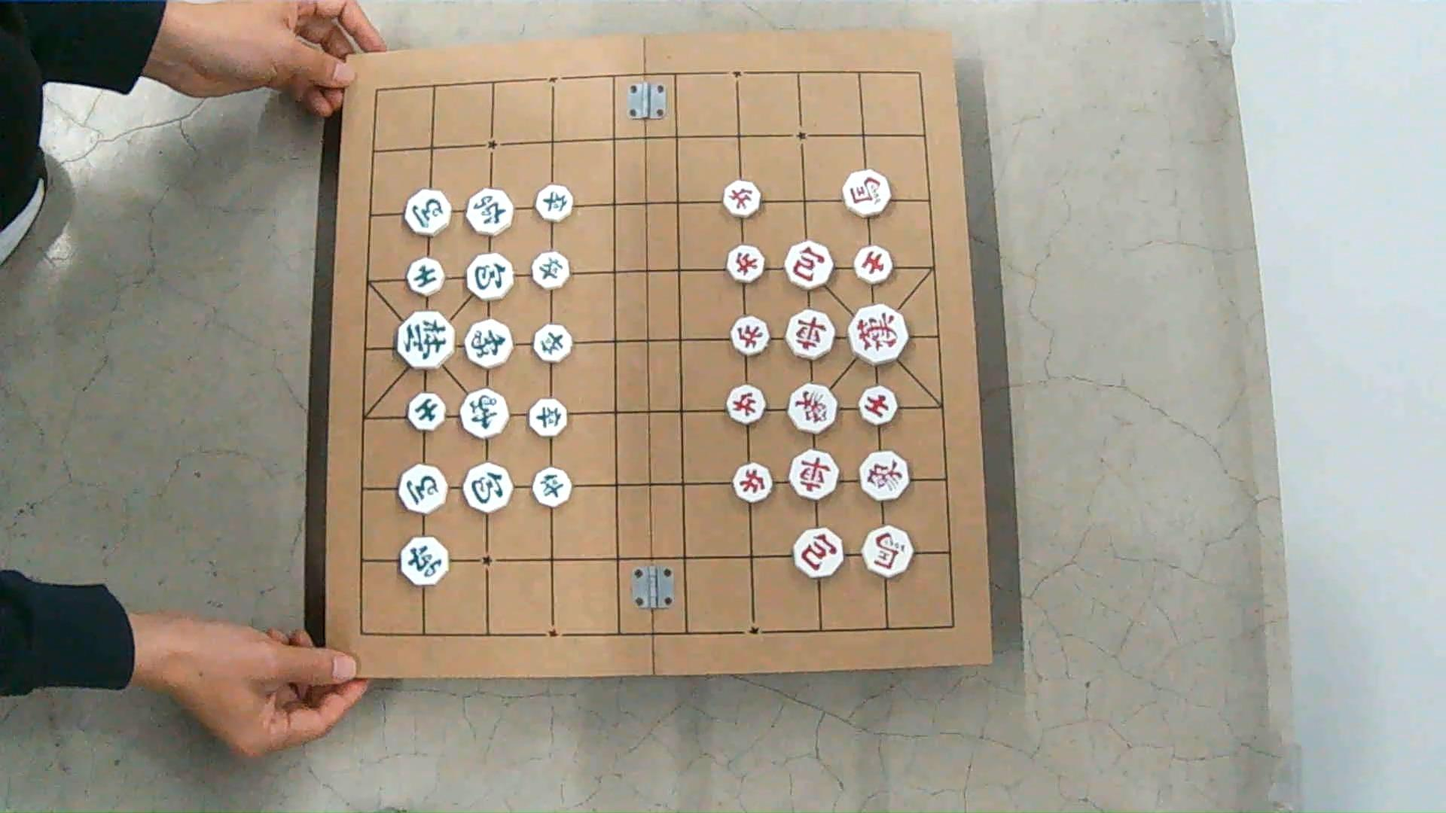cha_green: (465, 189, 513, 236), (401, 537, 447, 585)
cha_red: (789, 450, 837, 500), (786, 310, 834, 359)
jol_green: (532, 467, 571, 507), (533, 324, 572, 362), (529, 398, 566, 437), (532, 251, 569, 290), (536, 184, 572, 222)
jol_red: (734, 463, 772, 503), (726, 385, 764, 425), (731, 316, 769, 355), (727, 245, 764, 283), (722, 180, 760, 217)
ma_green: (403, 188, 452, 236), (399, 464, 446, 513)
ma_red: (862, 525, 912, 577), (842, 169, 892, 218)
po_green: (464, 463, 511, 512), (466, 254, 513, 300)
po_red: (792, 528, 844, 577), (785, 242, 833, 289)
sa_green: (406, 257, 445, 297), (407, 392, 446, 431)
sa_red: (859, 386, 897, 425), (854, 245, 892, 284)
sang_green: (463, 319, 511, 368), (461, 389, 508, 438)
sang_red: (789, 384, 837, 434), (860, 452, 908, 501)
wang_green: (395, 311, 453, 369)
wang_red: (847, 303, 911, 366)
